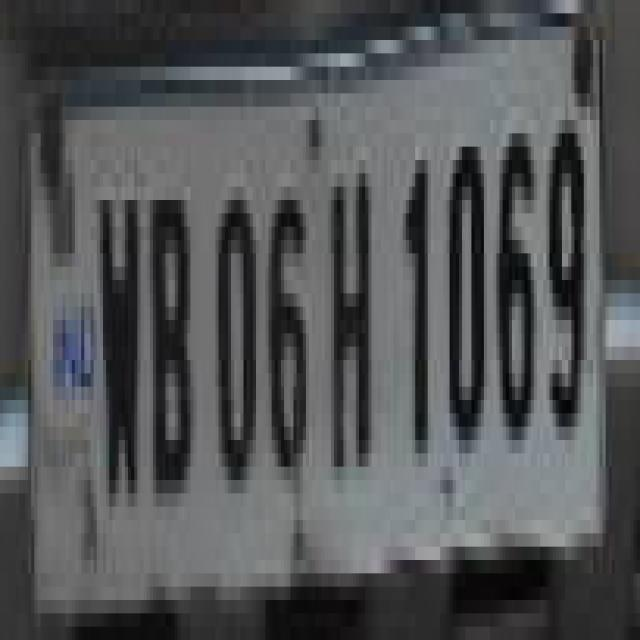license_plate: (3, 40, 609, 640)
